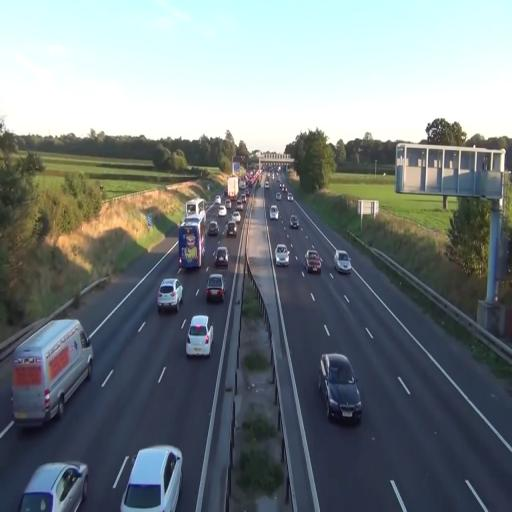vehicle: (10, 318, 94, 428), (12, 317, 94, 428), (119, 443, 183, 512), (18, 461, 89, 512), (319, 351, 363, 423), (178, 218, 204, 272), (186, 314, 213, 357), (157, 278, 183, 314), (205, 273, 225, 304), (304, 248, 322, 275), (334, 250, 352, 274), (274, 243, 290, 266), (214, 245, 229, 269), (206, 219, 220, 238), (226, 214, 238, 236)
